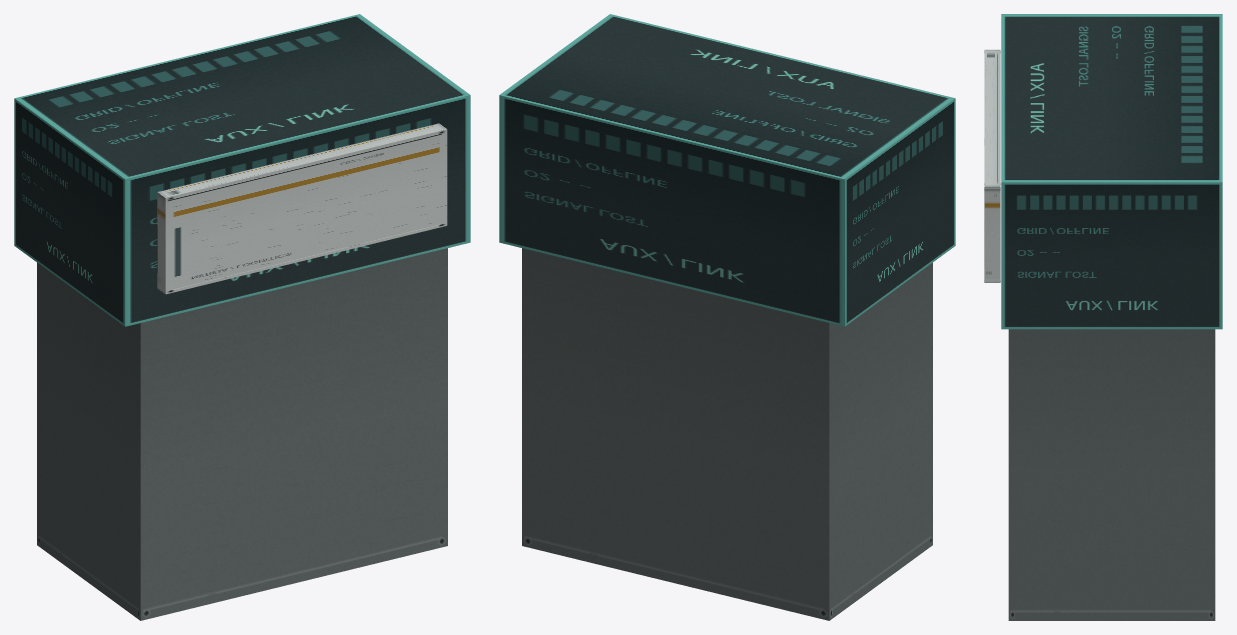
File: console_LOD2.obj
3 renders of one model, left to right at view 1: azimuth 30°, elevation 25°; view 2: azimuth 150°, elevation 25°; view 3: azimuth 270°, elevation 25°, orthographic.
Parts seen in each view (by area): view 1: L02_console_LOD2; view 2: L02_console_LOD2; view 3: L02_console_LOD2.
Boxes of the visible parts, x1,y1,x2,y2 form: L02_console_LOD2: [14, 14, 470, 620]; L02_console_LOD2: [499, 14, 955, 620]; L02_console_LOD2: [984, 14, 1222, 620].
Bounding box in the file's own units: 1.35 × 1.67 × 0.8075.
1 material, 1 textured.
